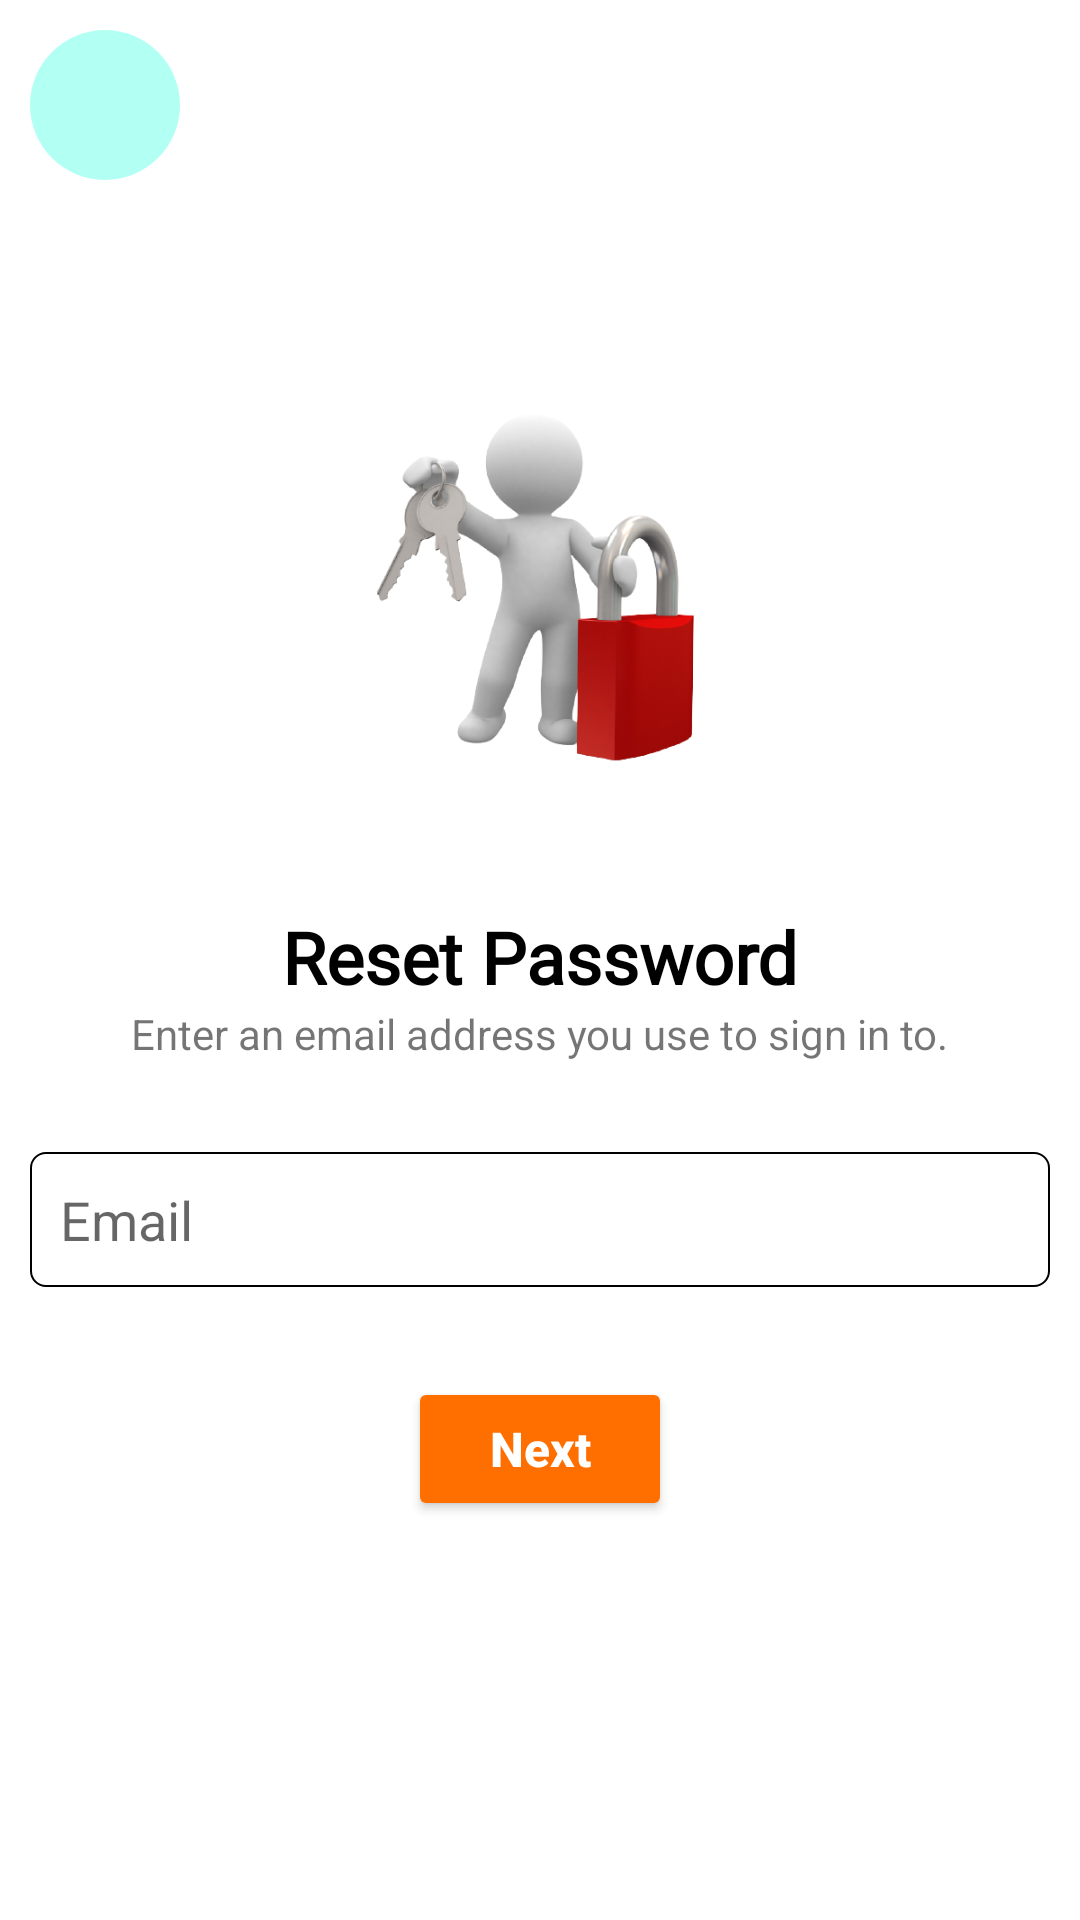

Icon click points for this 1080 × 1920 phone screenshot, format (x=x, y=y):
secure: (x=535, y=596)
